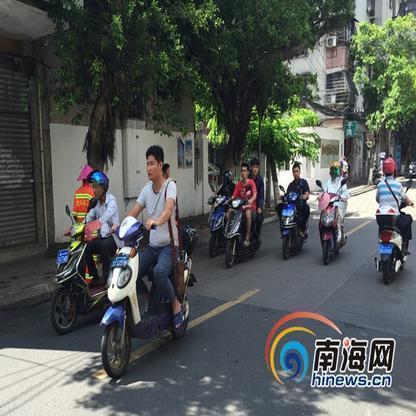target: (102, 144, 191, 379), (224, 158, 265, 271), (278, 161, 308, 261)
